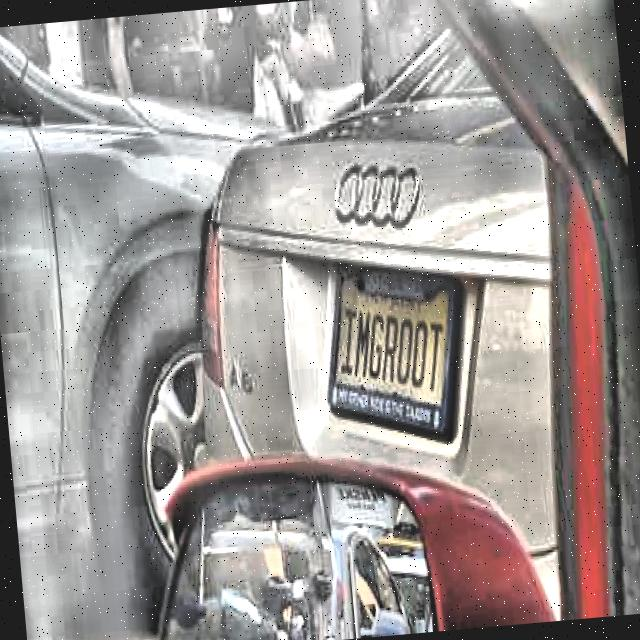license_plate: (313, 268, 464, 447)
